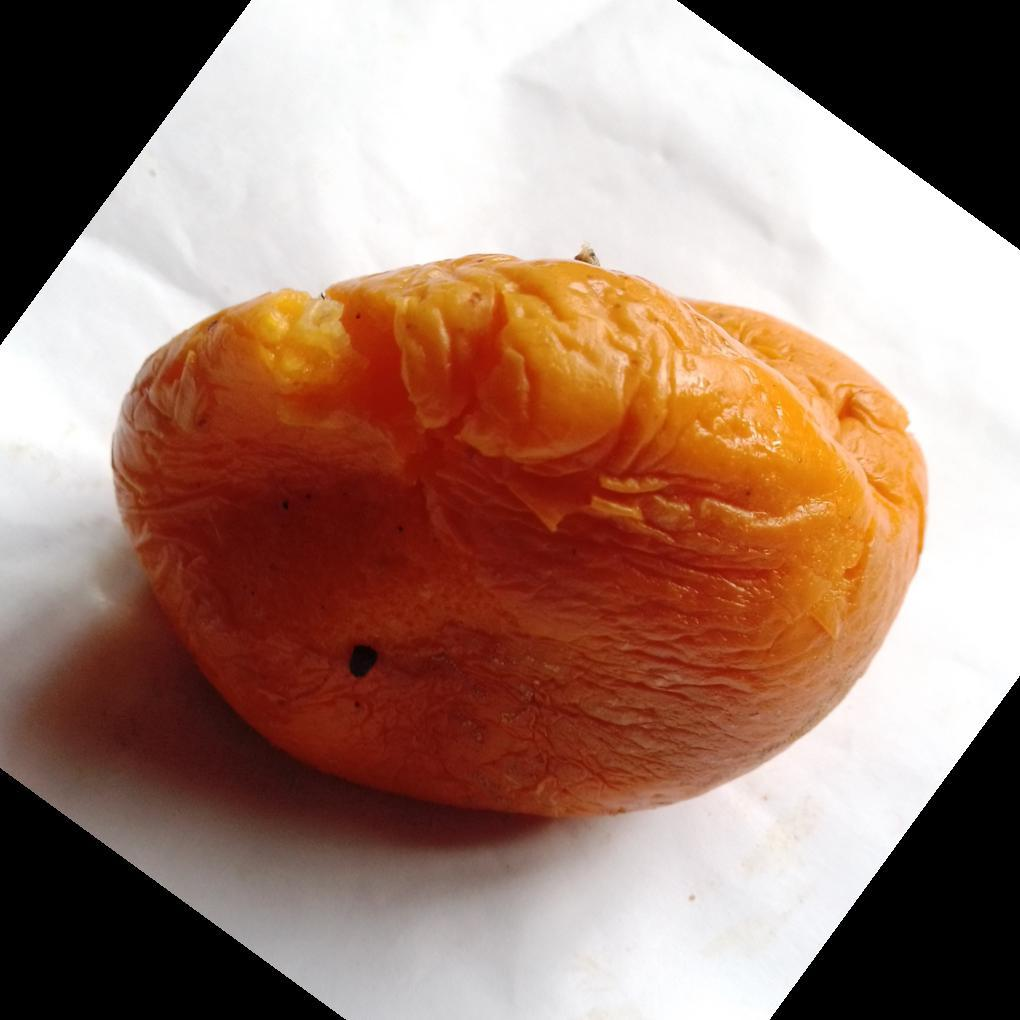FreshOrange: (107, 253, 927, 825)
